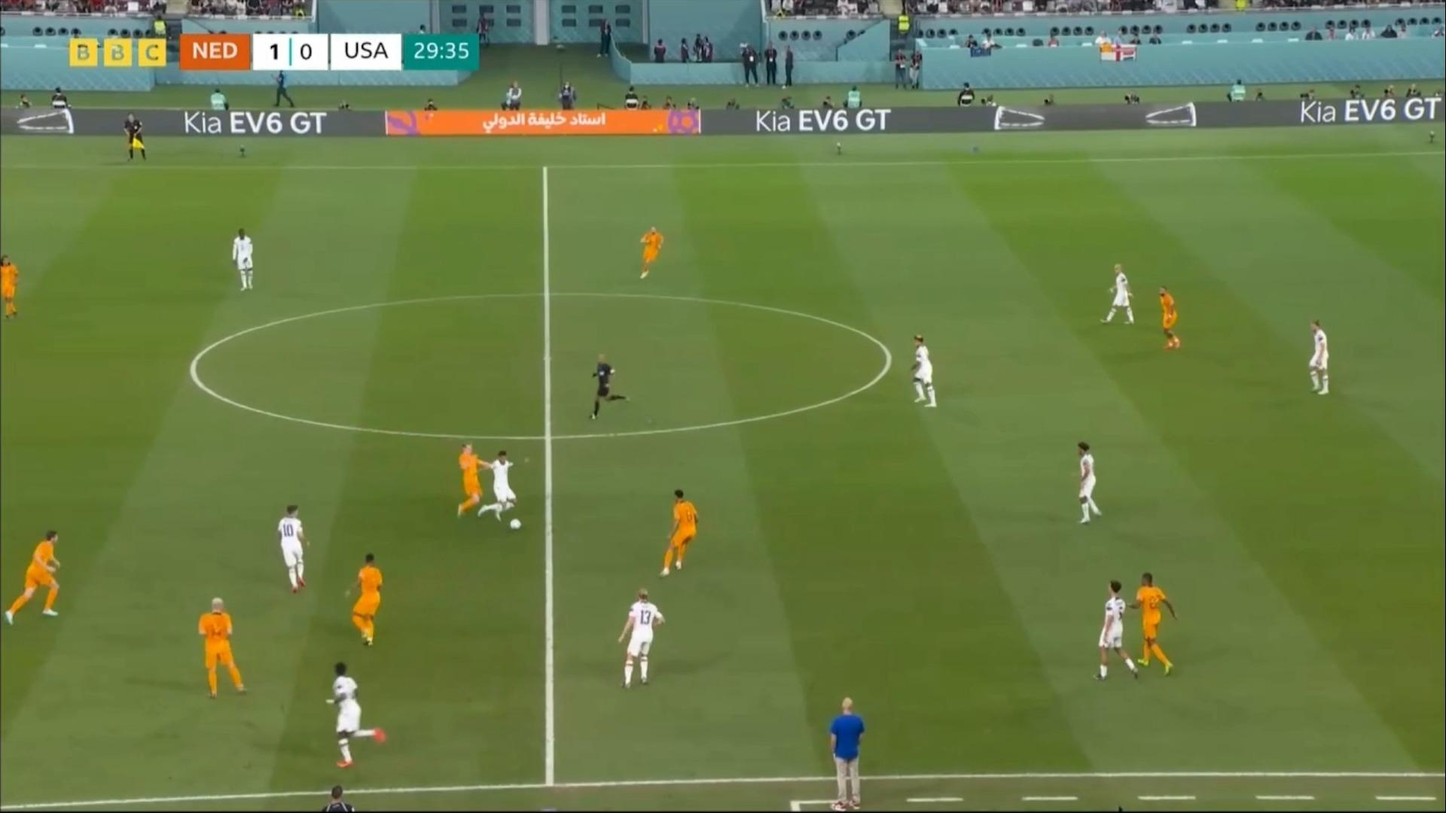Ball: (508, 519, 521, 531)
Player: (326, 662, 387, 771), (5, 529, 66, 623), (192, 596, 246, 702), (1127, 572, 1180, 677), (611, 586, 663, 691), (343, 551, 394, 653), (1091, 579, 1137, 681), (655, 490, 703, 583), (272, 501, 317, 597), (478, 445, 529, 527), (829, 697, 866, 810), (448, 440, 496, 522), (1068, 440, 1106, 526), (908, 335, 944, 413), (1302, 318, 1336, 400), (1098, 262, 1136, 331), (631, 220, 666, 285), (1153, 284, 1184, 352), (232, 227, 263, 294), (3, 255, 26, 323)
Ref: (586, 350, 624, 424), (121, 107, 151, 164)
